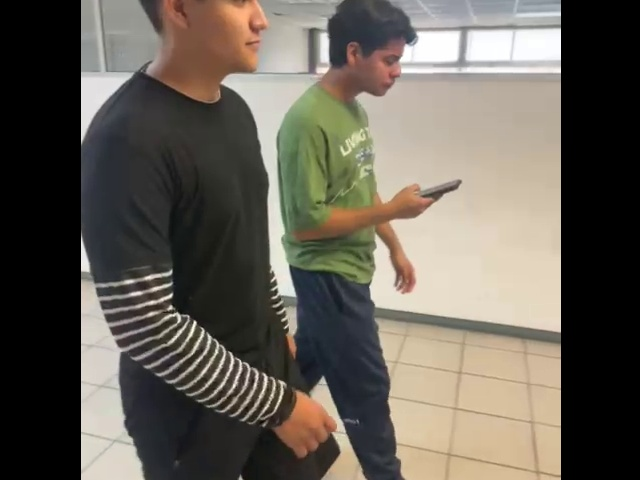mixto2: (408, 169, 463, 200)
